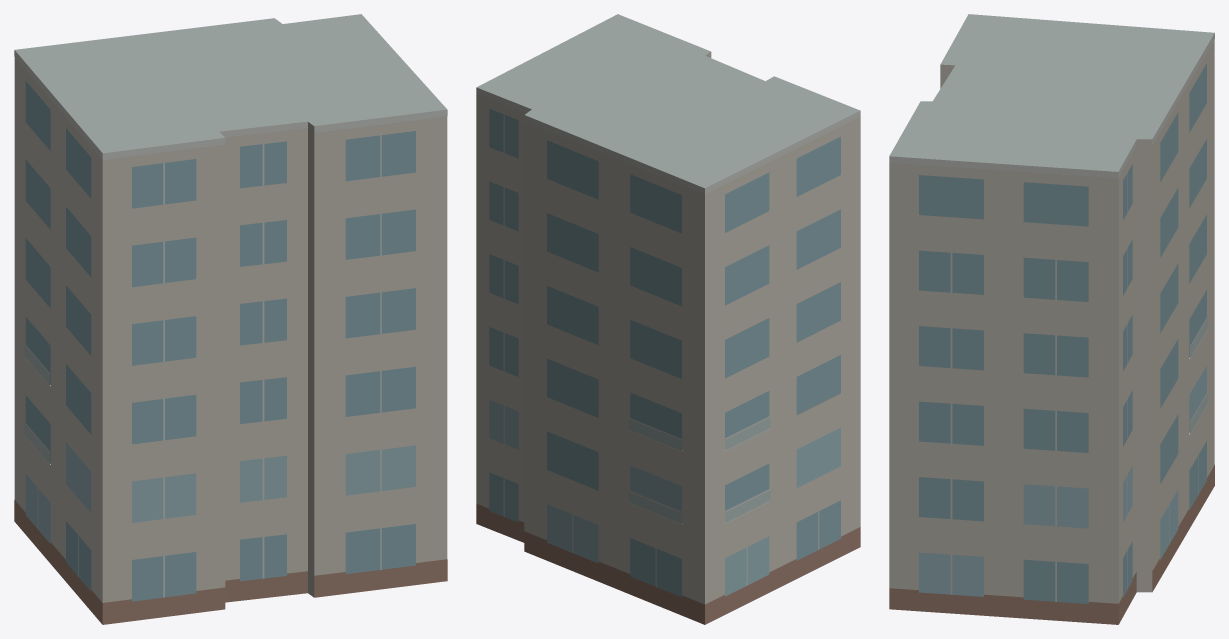
File: survey-upis-32661144.glb
3 renders of one model, left to right at view 1: azimuth 30°, elevation 25°; view 2: azimuth 150°, elevation 25°; view 3: azimuth 270°, elevation 25°, orthographic. The views are drawn at different scales.
Parts seen in each view (by area): view 1: survey-upis-32661144.tmp; view 2: survey-upis-32661144.tmp; view 3: survey-upis-32661144.tmp.
Boxes of the visible parts, x1,y1,x2,y2 form: survey-upis-32661144.tmp: (14, 14, 447, 624); survey-upis-32661144.tmp: (476, 14, 860, 624); survey-upis-32661144.tmp: (889, 14, 1214, 624).
Size of the model in its own units: 12.98 by 17.35 by 11.31.
